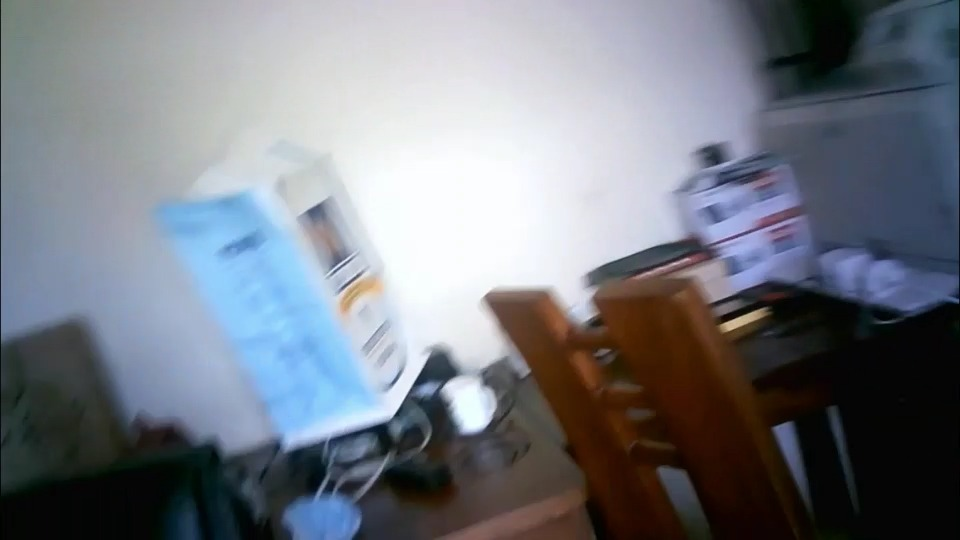wheat_flour_blue_label: (154, 130, 430, 447)
